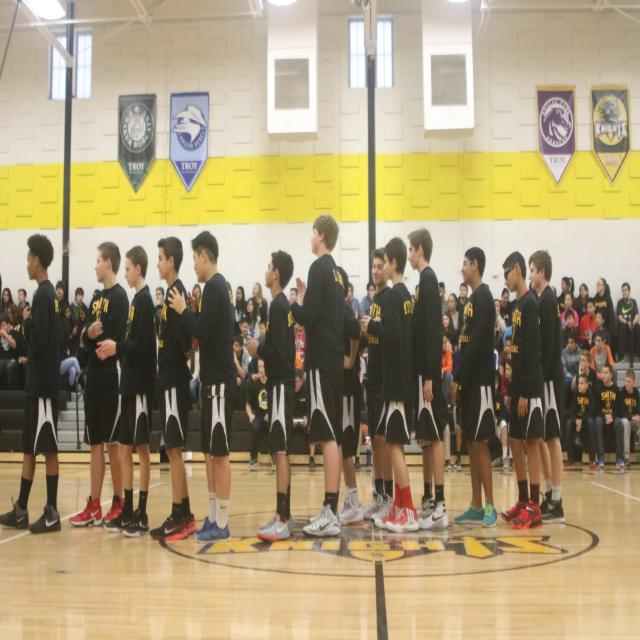body: (167, 230, 232, 544), (284, 212, 346, 539), (0, 232, 63, 535), (94, 245, 155, 539), (361, 236, 420, 534), (68, 240, 129, 528), (148, 235, 198, 541), (245, 249, 295, 543), (404, 224, 450, 530), (454, 247, 498, 529), (500, 250, 544, 530), (361, 246, 399, 524), (529, 248, 566, 525), (336, 265, 366, 528), (245, 356, 277, 468), (594, 362, 626, 468), (563, 372, 596, 469), (349, 349, 371, 469), (486, 370, 509, 470), (292, 367, 318, 455), (619, 368, 640, 469), (616, 282, 640, 364), (576, 349, 599, 431), (561, 331, 583, 412), (58, 325, 84, 390), (0, 314, 21, 391), (589, 328, 616, 382), (232, 334, 250, 411), (592, 277, 615, 336), (16, 316, 31, 392), (5, 303, 29, 347), (186, 338, 200, 411), (153, 286, 167, 358), (590, 306, 612, 351), (286, 323, 306, 372), (452, 384, 463, 468), (438, 407, 452, 473), (500, 358, 512, 434), (560, 309, 582, 350), (580, 297, 598, 347), (442, 334, 454, 409), (77, 304, 89, 374), (502, 298, 518, 350), (59, 306, 77, 352), (505, 382, 514, 468), (557, 276, 577, 314), (560, 291, 579, 331), (70, 286, 89, 326), (442, 311, 459, 354), (571, 283, 590, 321), (245, 297, 261, 341), (359, 281, 376, 320), (498, 334, 513, 376), (252, 282, 268, 321), (447, 293, 463, 331), (345, 281, 360, 321), (240, 318, 252, 363), (498, 288, 511, 328), (55, 280, 70, 314), (494, 298, 506, 339), (438, 281, 449, 316), (235, 286, 248, 314), (456, 282, 468, 312), (1, 288, 15, 312), (17, 288, 30, 312), (257, 318, 268, 346), (192, 283, 202, 313), (408, 282, 420, 307), (92, 280, 104, 302), (290, 287, 302, 306), (549, 284, 557, 299), (32, 286, 39, 296)
